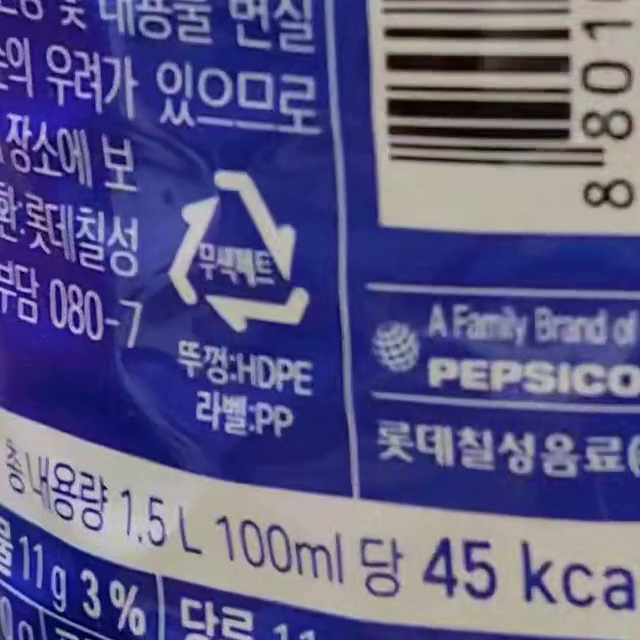ColorlessPet: (169, 168, 308, 333)
